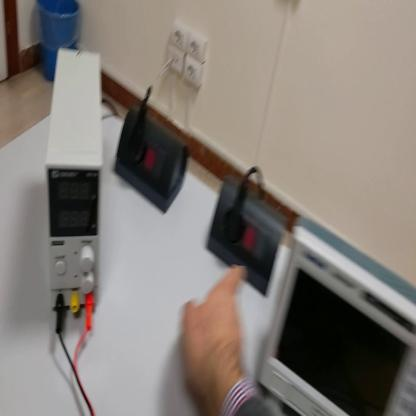hand: (181, 263, 248, 405)
oscilloscope: (258, 216, 416, 416)
power supply: (47, 39, 106, 311)
socket: (209, 173, 297, 298), (115, 105, 189, 213)
